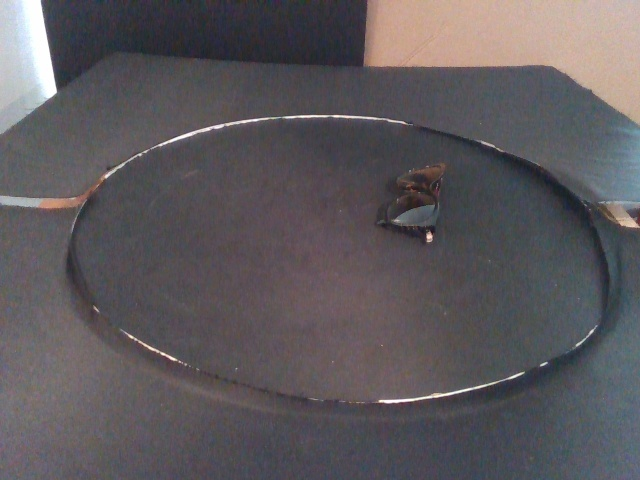glasses: (373, 160, 447, 244)
